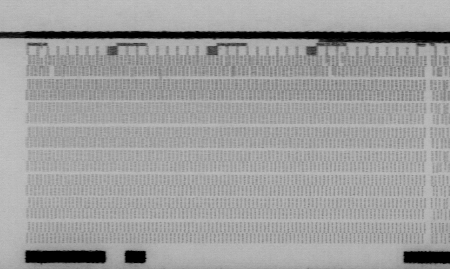Broken hole: (46, 65, 56, 76)
Oblique printing: (432, 55, 450, 124), (320, 53, 348, 78), (439, 148, 450, 210), (220, 55, 238, 78), (37, 54, 48, 69)
